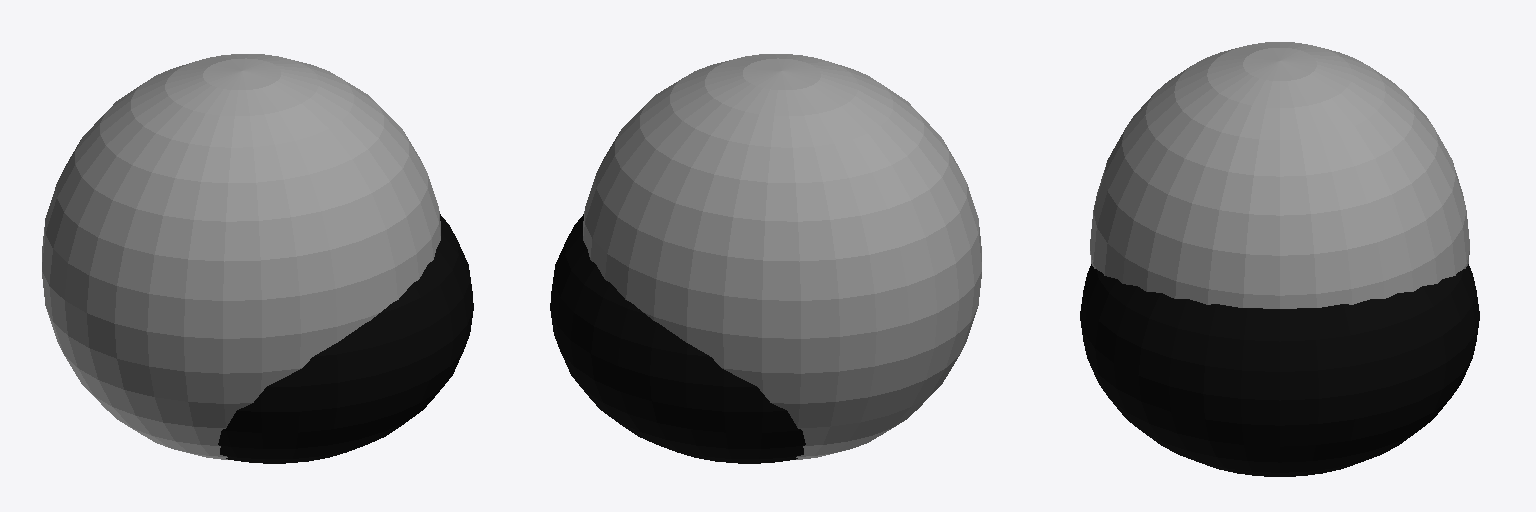
Rendered from helmet.obj.
The picture shows the model from 3 angles: view 1: azimuth 30°, elevation 25°; view 2: azimuth 150°, elevation 25°; view 3: azimuth 270°, elevation 25°; orthographic projection.
Parts seen in each view (by area): view 1: Sphere, Sphere.001; view 2: Sphere, Sphere.001; view 3: Sphere, Sphere.001.
Part boxes in pixels (bbox=[...]): Sphere: bbox=[42, 54, 440, 459]; Sphere.001: bbox=[218, 214, 473, 463]; Sphere: bbox=[583, 54, 981, 459]; Sphere.001: bbox=[550, 214, 805, 463]; Sphere: bbox=[1090, 42, 1469, 308]; Sphere.001: bbox=[1080, 264, 1479, 476].
Size of the model in its own units: 2.38 by 2.24 by 2.15.